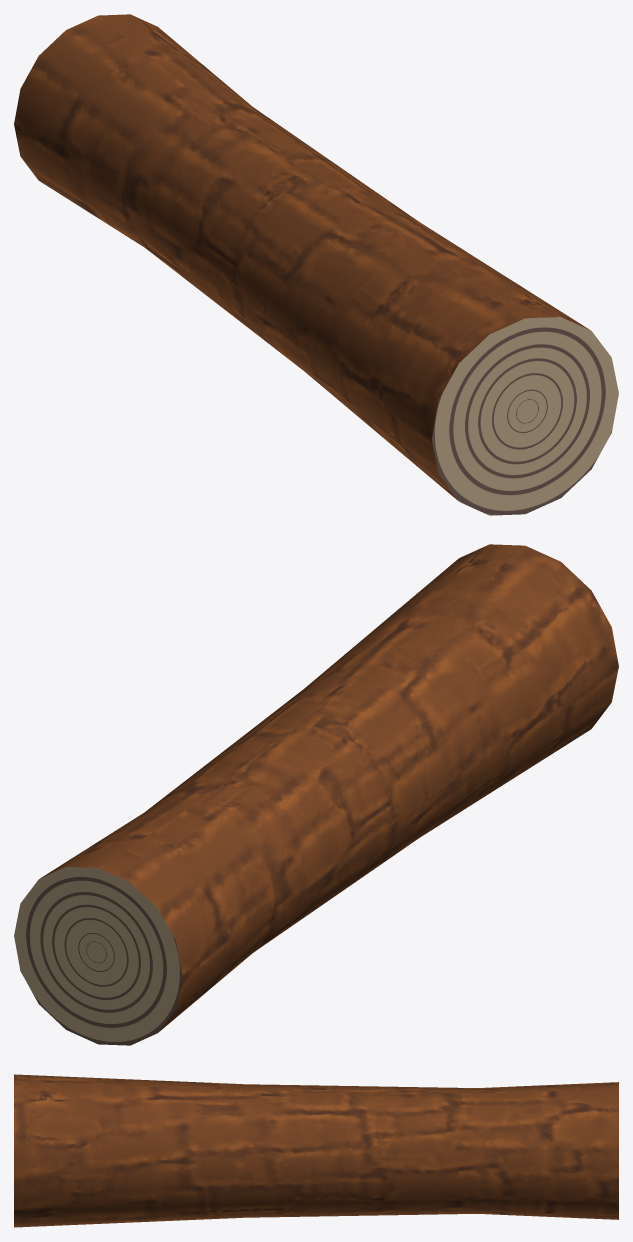
Rendered from sideways_log.glb.
3 views of the same model, one above another, from view 1: azimuth 30°, elevation 25°; view 2: azimuth 150°, elevation 25°; view 3: azimuth 270°, elevation 25° (orthographic). The views are drawn at different scales.
Visible parts, largest first — view 1: SidewaysLog; view 2: SidewaysLog; view 3: SidewaysLog.
Part boxes in pixels (x1,y1,x2,y2): SidewaysLog: (14,14,618,515); SidewaysLog: (14,544,618,1045); SidewaysLog: (14,1074,618,1227).
Size of what is drawn, in the model's own units: 9.12 by 9.12 by 36.01.
Materials: 2 (2 with a texture image).
